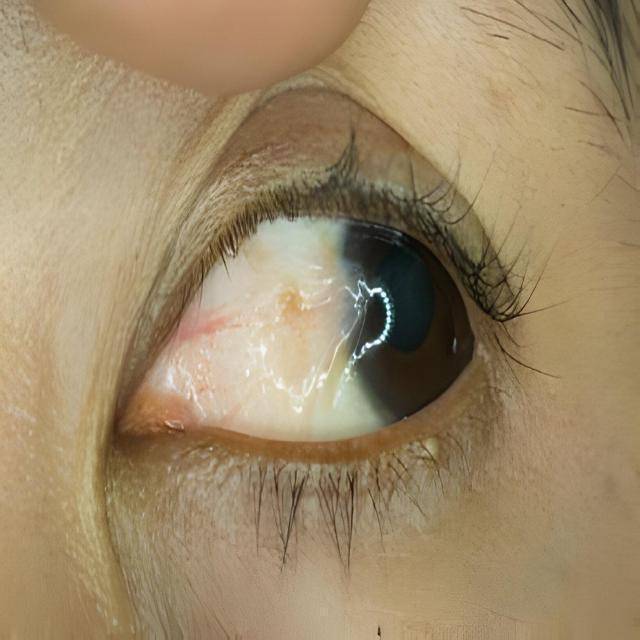Pterygium: (150, 234, 374, 462)
